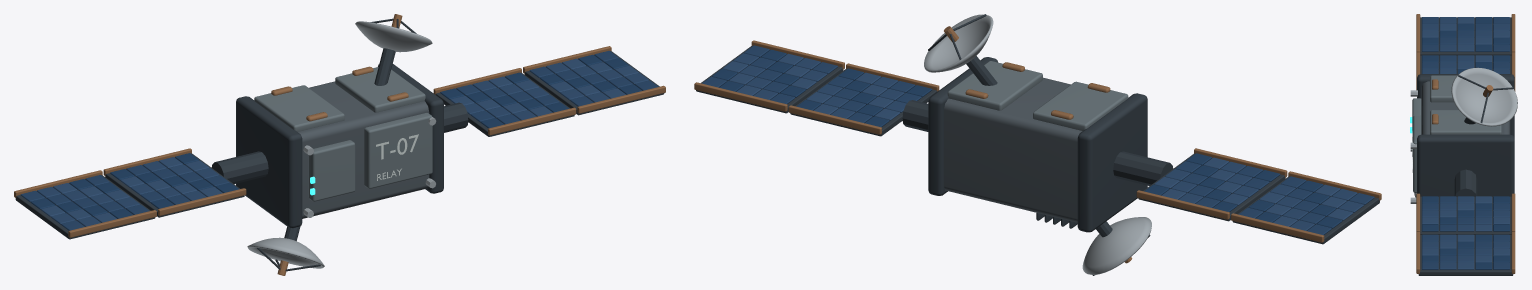
The model's file is relay-t07-functional.glb.
3 views of the same model, side by side, from view 1: azimuth 30°, elevation 25°; view 2: azimuth 150°, elevation 25°; view 3: azimuth 270°, elevation 25° (orthographic). The views are drawn at different scales.
Visible parts, largest first — view 1: Central avionics chassis, End bulkhead, Designation panel, Sealed service cover, Top service panel, Top service panel.001, End bulkhead.001, Upper reflector, Lower reflector, Solar array gimbal, Array backplane.001, Array perimeter rail (+12 smaller); view 2: Central avionics chassis, End bulkhead, Top service panel, Top service panel.001, Lower reflector, Upper reflector, End bulkhead.001, Solar array gimbal, Array backplane.001, Array perimeter rail.007, Array perimeter rail.001, Array perimeter rail.003 (+10 smaller); view 3: End bulkhead.001, Upper reflector, Top service panel.001, Array backplane.003, Central avionics chassis, Array backplane.001, Array backplane.002, Solar array gimbal.001, Top service panel, End bulkhead, Designation panel, Sealed service cover (+98 smaller).
Boxes of the visible parts, <box> form: Central avionics chassis: <box>298,81,429,218</box>; End bulkhead: <box>236,96,302,228</box>; Designation panel: <box>364,113,432,188</box>; Sealed service cover: <box>308,140,355,201</box>; Top service panel: <box>254,85,344,131</box>; Top service panel.001: <box>335,67,425,112</box>; End bulkhead.001: <box>378,64,443,193</box>; Upper reflector: <box>355,21,432,52</box>; Lower reflector: <box>247,237,324,268</box>; Solar array gimbal: <box>211,151,268,183</box>; Array backplane.001: <box>15,175,155,239</box>; Array perimeter rail: <box>158,188,246,215</box>; Central avionics chassis: <box>944,77,1082,222</box>; End bulkhead: <box>1077,93,1147,232</box>; Top service panel: <box>1033,81,1128,130</box>; Top service panel.001: <box>947,61,1042,110</box>; Lower reflector: <box>1082,217,1151,274</box>; Upper reflector: <box>924,14,993,72</box>; End bulkhead.001: <box>928,57,997,195</box>; Solar array gimbal: <box>1113,151,1173,185</box>; Array backplane.001: <box>1232,176,1379,244</box>; Array perimeter rail.007: <box>694,82,787,111</box>; Array perimeter rail.001: <box>1136,190,1229,219</box>; Array perimeter rail.003: <box>1231,213,1324,242</box>; End bulkhead.001: <box>1417,134,1514,196</box>; Upper reflector: <box>1451,67,1517,126</box>; Top service panel.001: <box>1430,110,1501,134</box>; Array backplane.003: <box>1418,235,1513,275</box>; Central avionics chassis: <box>1421,81,1510,134</box>; Array backplane.001: <box>1420,17,1511,55</box>; Array backplane.002: <box>1420,196,1511,234</box>; Solar array gimbal.001: <box>1454,169,1477,196</box>; Top service panel: <box>1430,75,1456,102</box>; End bulkhead: <box>1417,74,1514,137</box>; Designation panel: <box>1413,115,1421,192</box>; Sealed service cover: <box>1412,98,1421,156</box>.
Size of the model in its own units: 7.66 by 2.68 by 1.37.
